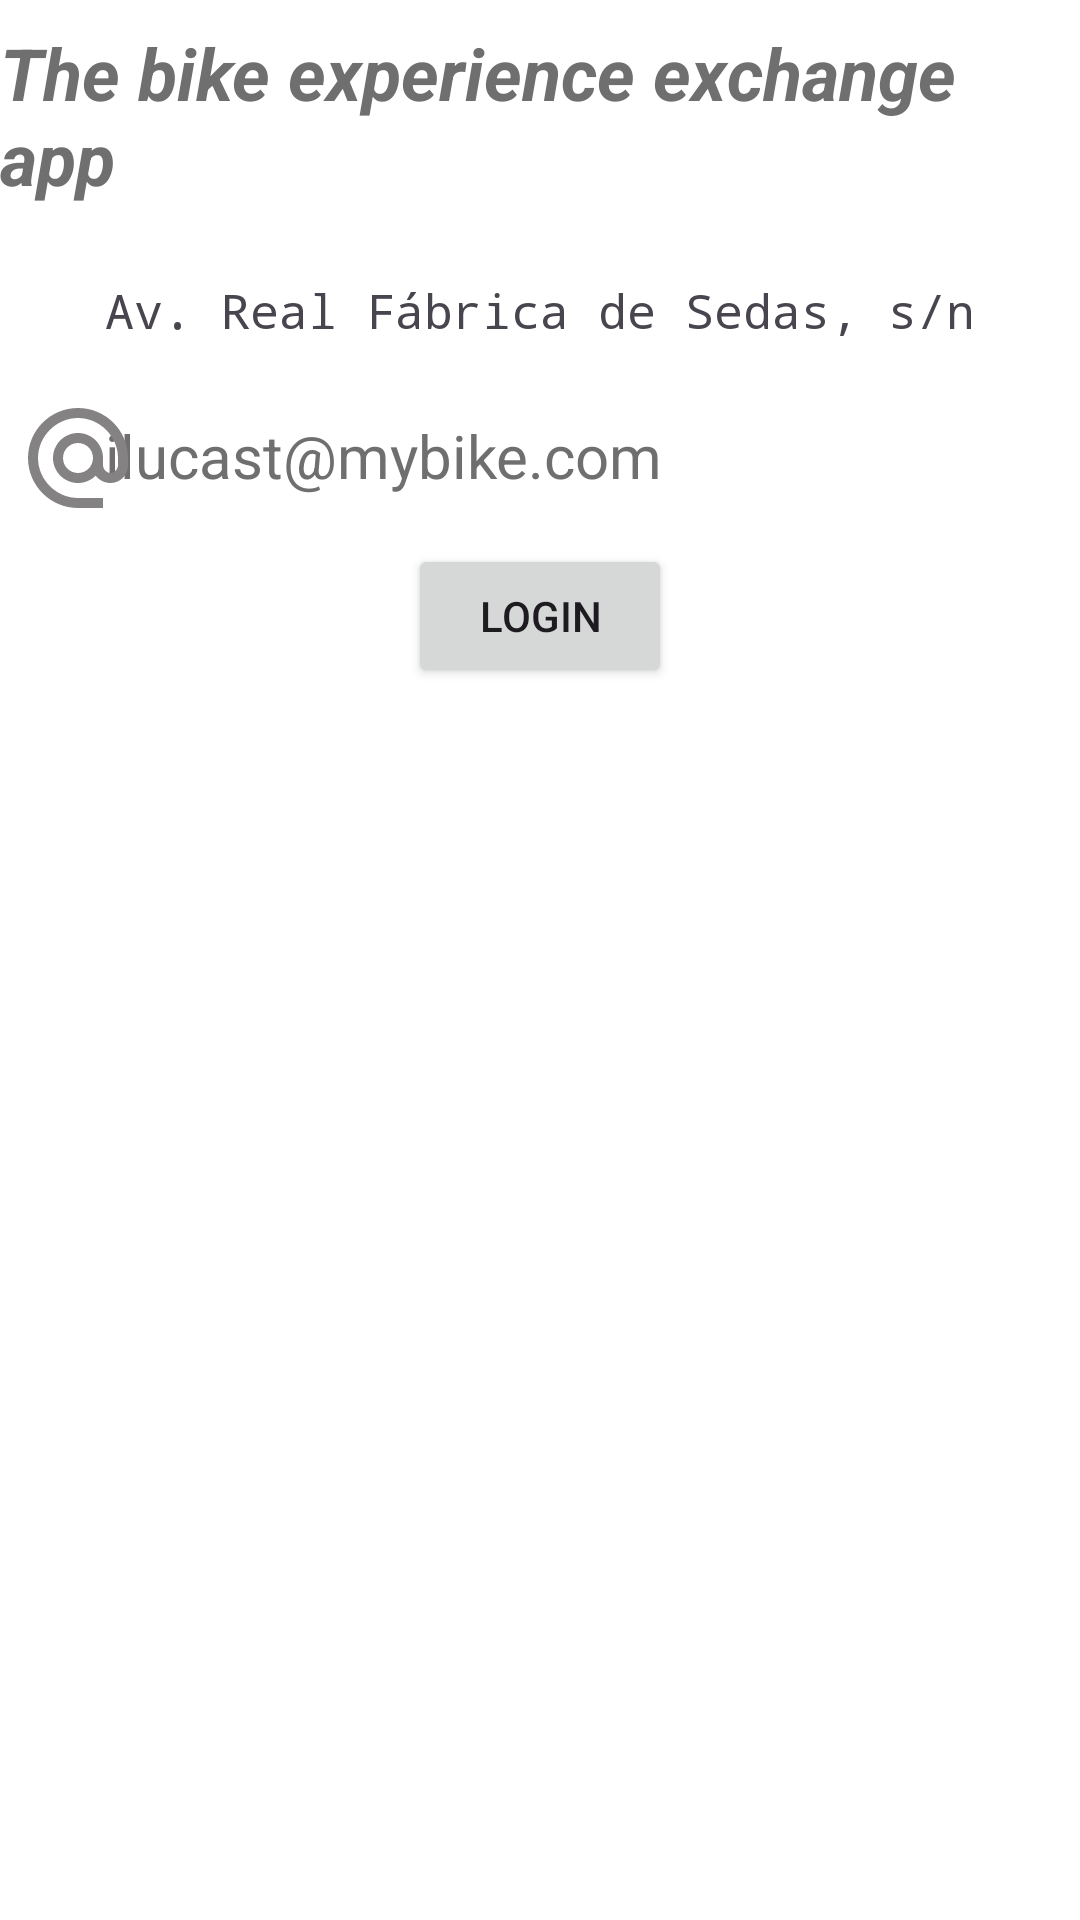

Point at icon controls on the screen. Image size 1080px x 1920px, points as [x,y].
alternate email: [79,458]
